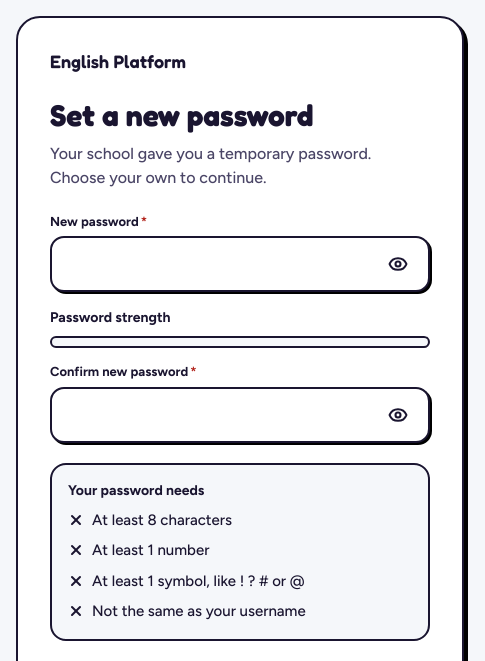
Test: SetNewPasswordPage › updates the meter and the checklist on every keystroke
Type "abc" into the password field labelled "New password*" at [218, 264], box [64,238,372,290]
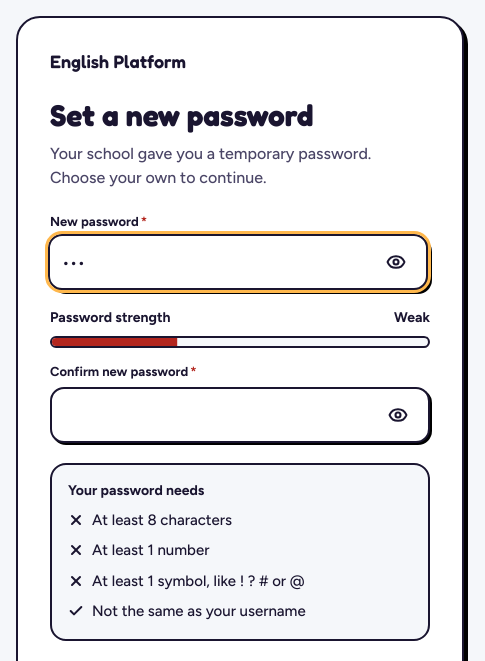
Expected: the message with test id "strength-label" reads "Weak", [394,309,430,326]
Type "defg1!" into the password field labelled "New password*" at [216, 262], box [62,236,370,288]
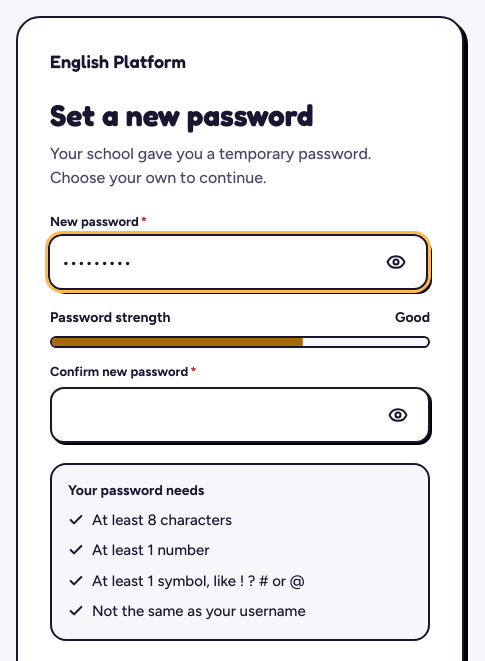
Expected: the message with test id "strength-label" reads "Good", [395,309,430,326]
Type "Abcdefghijk1!" into the password field labelled "New password*" at [216, 262], box [62,236,370,288]
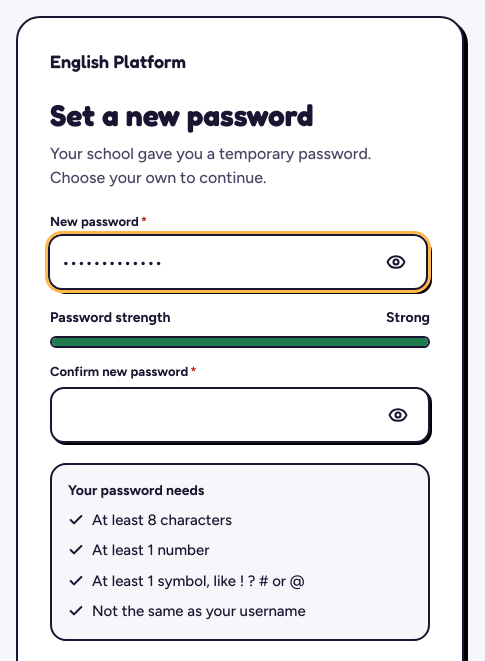
Expected: the message with test id "strength-label" reads "Strong", [386,309,430,326]
